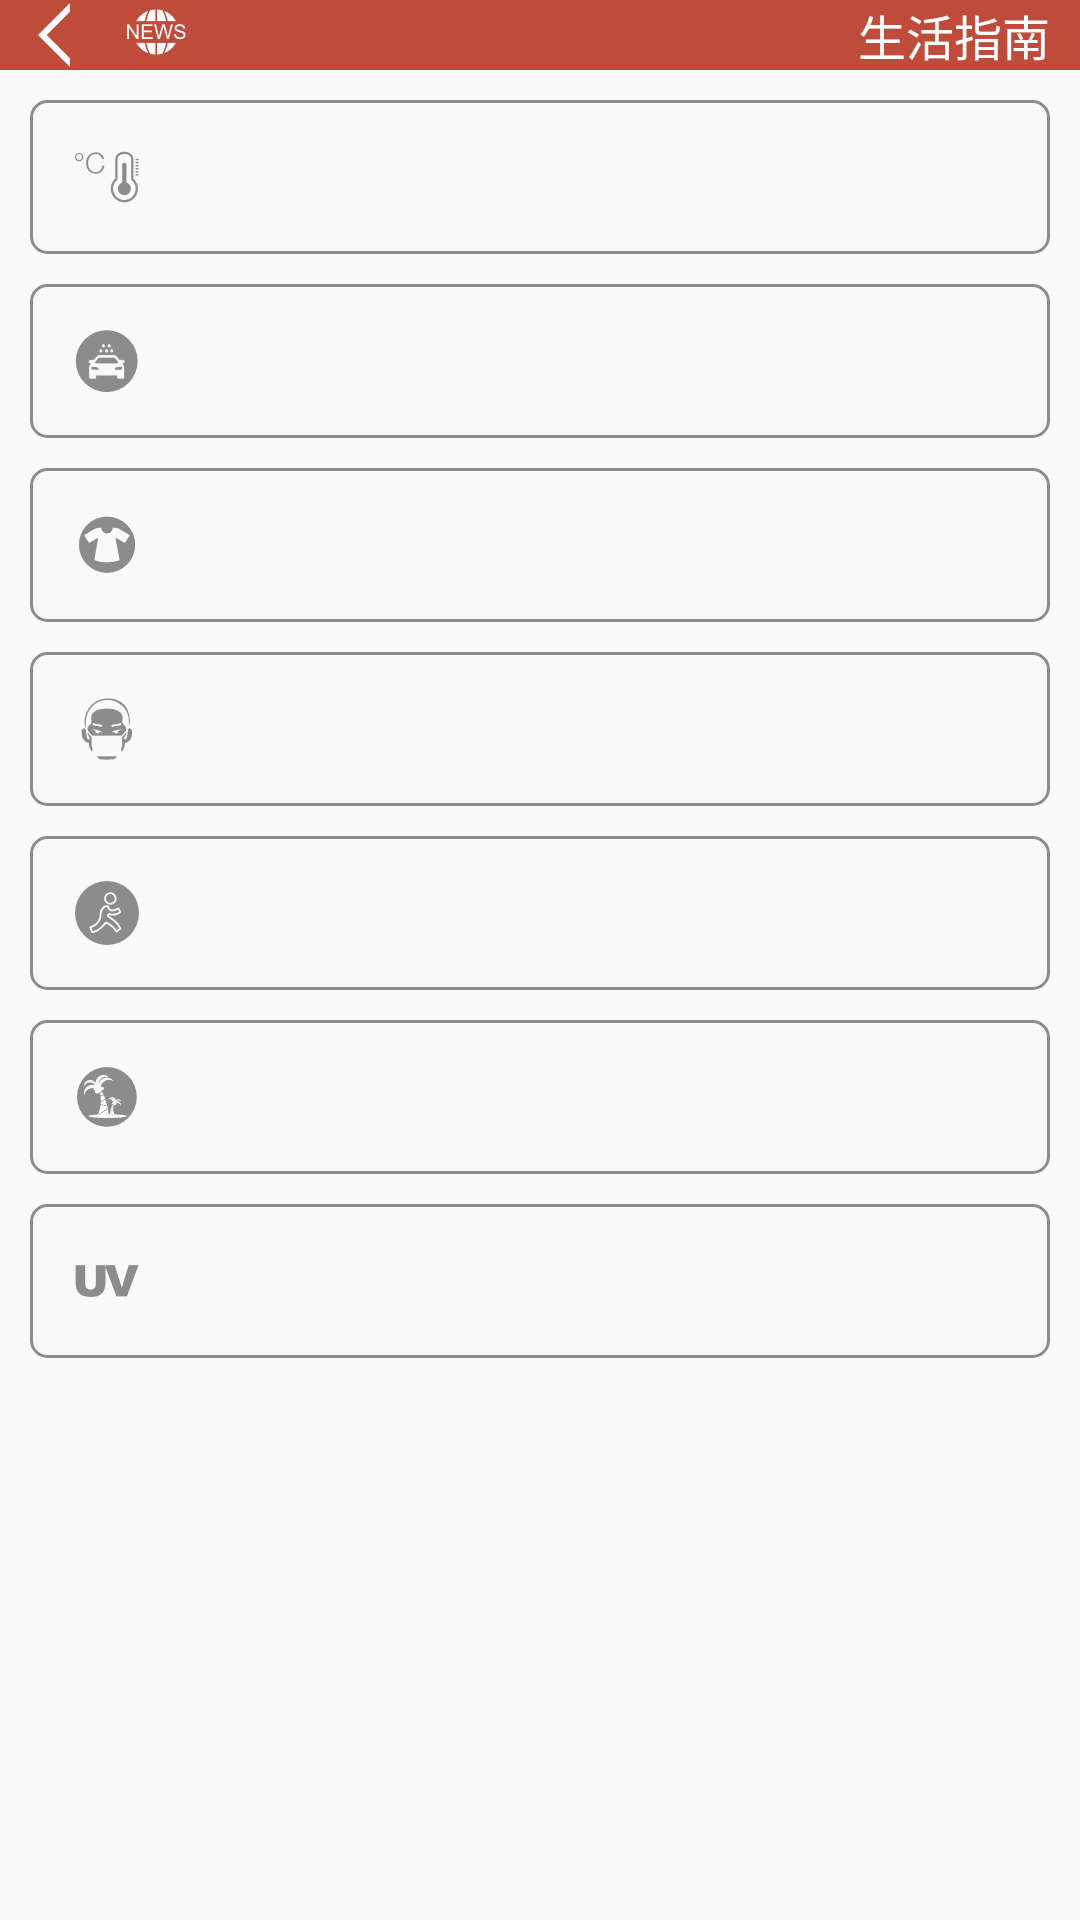

Icons on this 1080 x 1920 Android screen, each with its box as bbox(x1, y1, x2, y2):
back: bbox(38, 3, 70, 67)
weather life cw: bbox(76, 330, 138, 392)
weather life flu: bbox(81, 698, 132, 760)
weather life trav: bbox(77, 1067, 137, 1127)
